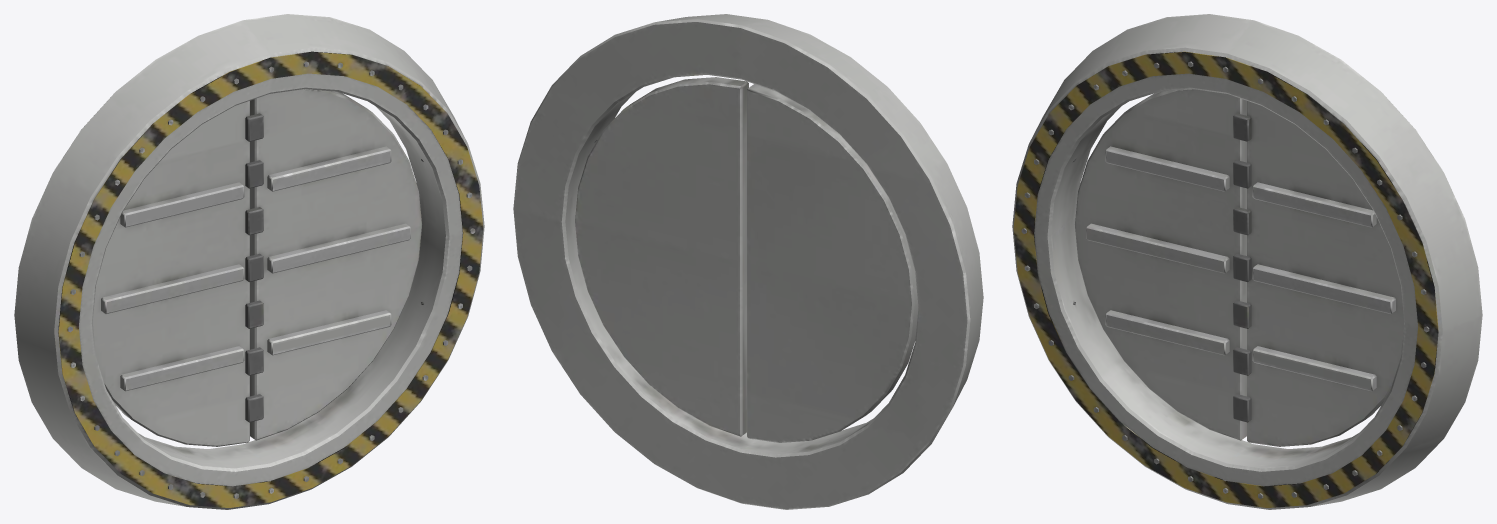
The model's file is torpedoDoor.glb.
3 renders of one model, left to right at view 1: azimuth 30°, elevation 25°; view 2: azimuth 150°, elevation 25°; view 3: azimuth 330°, elevation 25°, orthographic.
Parts seen in each view (by area): view 1: torpedoDoor; view 2: torpedoDoor; view 3: torpedoDoor.
Boxes of the visible parts, x1,y1,x2,y2 form: torpedoDoor: (14, 14, 484, 509); torpedoDoor: (513, 14, 983, 509); torpedoDoor: (1012, 14, 1482, 509).
Size of the model in its own units: 4.09 by 4.09 by 0.4682.
Materials: 1 (1 with a texture image).
